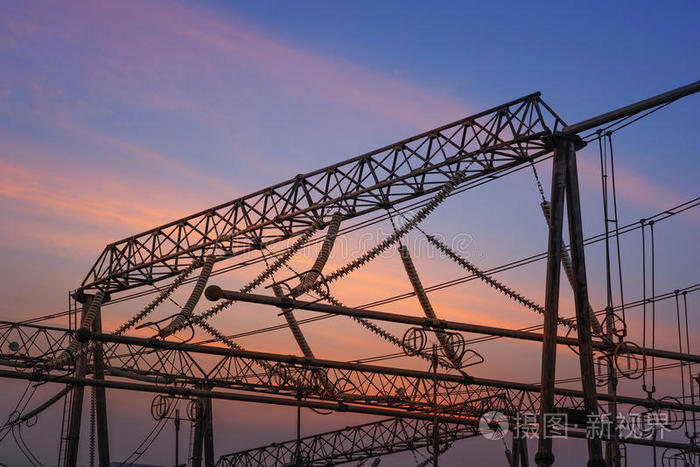insulator: (313, 168, 465, 289), (42, 256, 197, 369), (169, 223, 318, 333), (429, 237, 576, 328), (197, 318, 308, 391), (274, 283, 335, 397), (293, 212, 339, 296), (168, 254, 215, 335), (54, 291, 106, 359)
